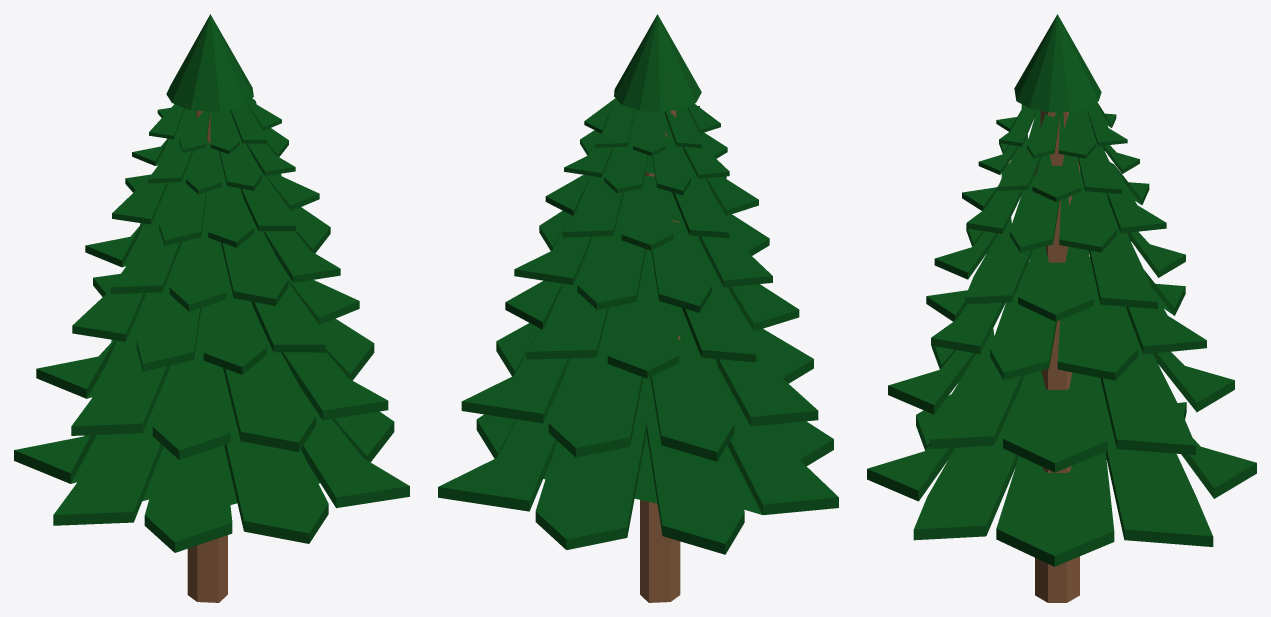
File: tree-summer-complete-43-007.glb
3 renders of one model, left to right at view 1: azimuth 30°, elevation 25°; view 2: azimuth 150°, elevation 25°; view 3: azimuth 270°, elevation 25°, orthographic.
Visible parts, largest first — view 1: Tree 43_66; view 2: Tree 43_66; view 3: Tree 43_66.
Part boxes in pixels (bbox=[...]): Tree 43_66: bbox=[14, 14, 409, 602]; Tree 43_66: bbox=[438, 14, 838, 602]; Tree 43_66: bbox=[867, 14, 1256, 602].
Size of the model in its own units: 1.47 by 2.31 by 1.4.
